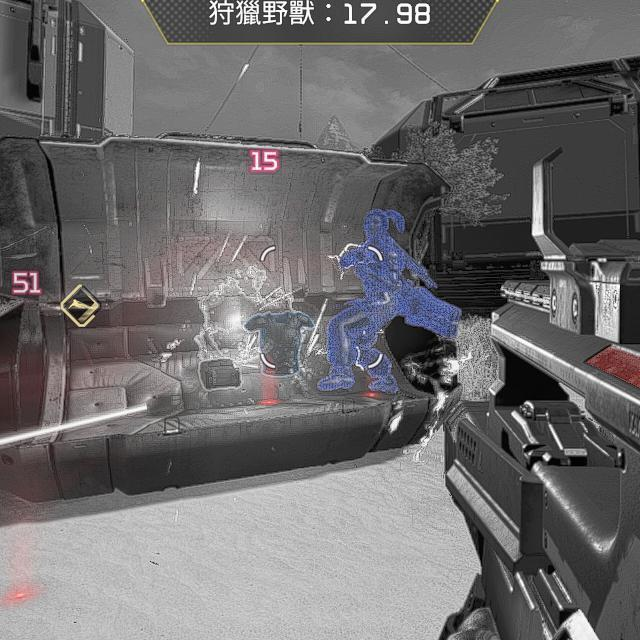avatar: (323, 207, 407, 398)
